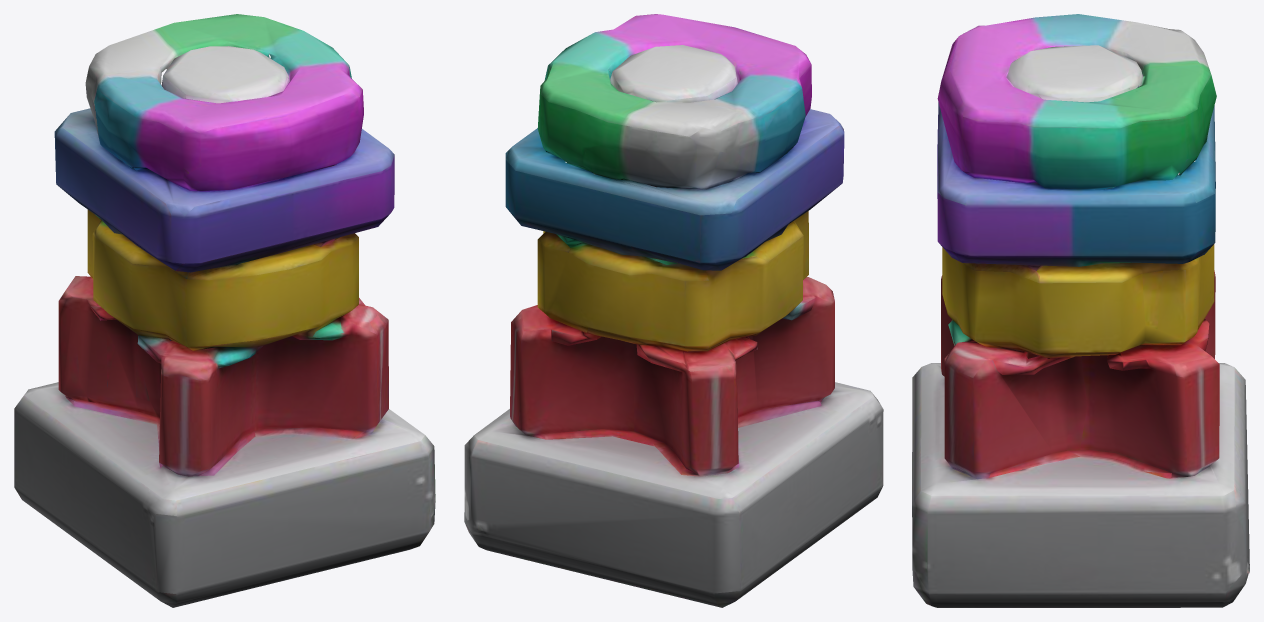
File: blocks.glb
3 views of the same model, side by side, from view 1: azimuth 30°, elevation 25°; view 2: azimuth 150°, elevation 25°; view 3: azimuth 270°, elevation 25° (orthographic). The views are drawn at different scales.
Parts seen in each view (by area): view 1: blocks; view 2: blocks; view 3: blocks.
Part boxes in pixels (box(x1,y1,x2,y2)): blocks: box(14, 14, 435, 607); blocks: box(464, 14, 883, 607); blocks: box(912, 14, 1249, 607).
Size of the model in its own units: 0.6308 by 0.9985 by 0.6354.
Materials: 1 (1 with a texture image).
